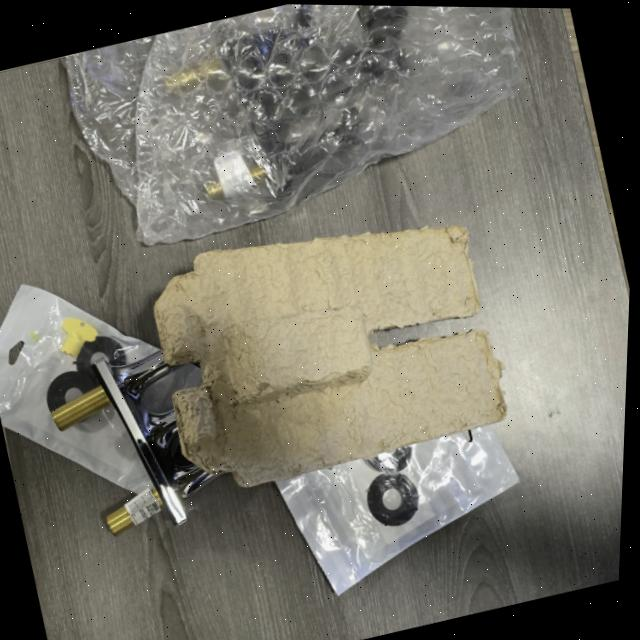10o: (51, 349, 211, 534)
12o: (0, 283, 153, 492)
13o: (275, 424, 517, 593)
9c: (65, 4, 517, 244)
